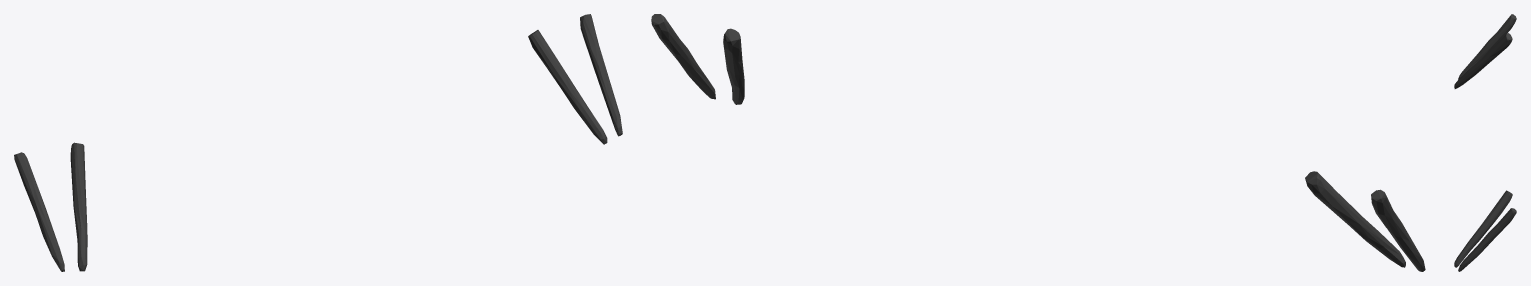
File: lig_oblique_sesamoid_HL.glb
3 renders of one model, left to right at view 1: azimuth 30°, elevation 25°; view 2: azimuth 150°, elevation 25°; view 3: azimuth 270°, elevation 25°, orthographic. The views are drawn at different scales.
Parts seen in each view (by area): view 1: lig_oblique_sesamoid_HL; view 2: lig_oblique_sesamoid_HL; view 3: lig_oblique_sesamoid_HL.
Boxes of the visible parts, x1,y1,x2,y2 form: lig_oblique_sesamoid_HL: (14, 14, 622, 271); lig_oblique_sesamoid_HL: (651, 14, 1425, 271); lig_oblique_sesamoid_HL: (1454, 14, 1516, 271).
Size of the model in its own units: 0.00513 by 0.000803 by 0.000689.
Materials: 1 (1 with a texture image).
